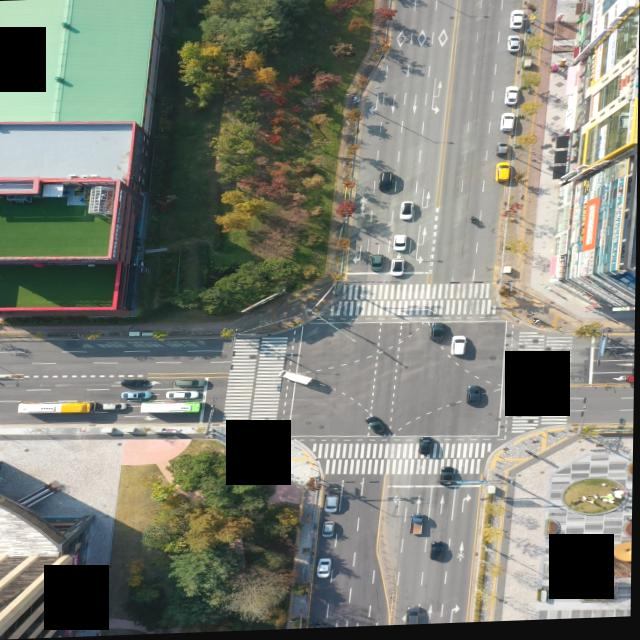car: (365, 421, 394, 442), (366, 256, 386, 273), (379, 172, 394, 194), (495, 166, 511, 186), (317, 559, 333, 579), (465, 390, 481, 410), (441, 470, 457, 490), (451, 338, 466, 358), (505, 90, 520, 110), (175, 380, 208, 389), (121, 378, 154, 387), (430, 326, 446, 344), (167, 390, 199, 399), (326, 497, 341, 516), (418, 440, 432, 460), (499, 117, 514, 135), (122, 391, 152, 400), (423, 439, 437, 458), (407, 611, 422, 628), (510, 15, 525, 32), (401, 205, 415, 223), (508, 40, 522, 58), (433, 544, 446, 563), (392, 237, 407, 253), (390, 262, 404, 279), (495, 147, 508, 161), (323, 523, 335, 538), (105, 402, 129, 409)
large_bus: (21, 401, 98, 413), (139, 401, 202, 413)
small_truck: (282, 372, 312, 388), (411, 516, 425, 538)
